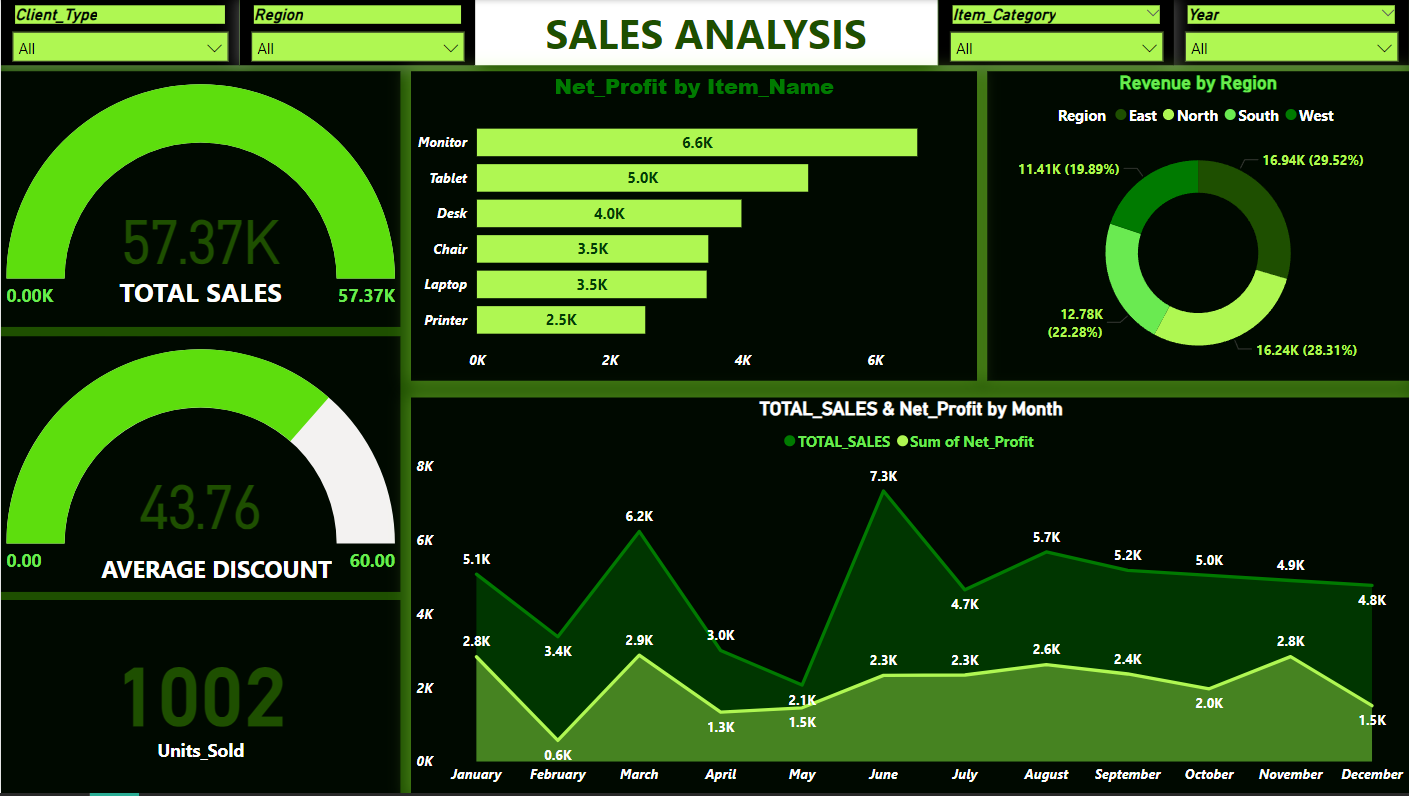

What the dashboard file says about the page in this screenshot:
{"tool":"powerbi","page":{"name":"Page 1","canvas":[1280,720],"ordinal":0},"visuals":[{"type":"textbox","box":[430.1,0,419.8,59.3],"z":0},{"type":"gauge","fields":{"Y":["transactions.TOTAL_SALES"]},"box":[0,65,362.6,231.7],"z":0,"group":"g1"},{"type":"gauge","fields":{"Y":["clients.PROFIT_MARGIN"]},"box":[0,305,362.6,231.7],"z":0,"group":"g2"},{"type":"slicer","fields":{"Values":["clients.Client_Type"]},"box":[0,0,216.1,58.8],"z":1000},{"type":"textbox","box":[0,244.7,362.6,43.2],"z":1000,"group":"g1"},{"type":"textbox","box":[34.8,496.6,320.6,43.2],"z":1000,"group":"g2"},{"type":"slicer","fields":{"Values":["clients.Region"]},"box":[216.1,0,213.7,58.8],"z":2000},{"type":"slicer","fields":{"Values":["transactions.Transaction_Date.Variation.Date Hierarchy.Year"]},"box":[1063.9,0,213.7,58.8],"z":3000},{"type":"slicer","fields":{"Values":["transactions.Item_Category"]},"box":[850.1,0,213.7,58.8],"z":4000},{"type":"group","id":"g1","title":"Group 1","box":[0,65,362.6,231.7],"z":5000},{"type":"group","id":"g2","title":"Group 2","box":[0,305,362.6,235.3],"z":6000},{"type":"card","fields":{"Values":["Sum(transactions.Units_Sold)"]},"box":[0,543.9,362.6,176.5],"z":7000},{"type":"donutChart","fields":{"Category":["clients.Region"],"Y":["Sum(transactions.Revenue)"]},"box":[894.6,64.8,383,281],"z":8000},{"type":"clusteredBarChart","title":"Net_Profit by Item_Name","fields":{"Category":["transactions.Item_Name"],"Y":["Sum(transactions.Net_Profit)"]},"box":[372.2,64.8,513.9,281],"z":9000},{"type":"lineChart","title":"TOTAL_SALES & Net_Profit by Month","fields":{"Y":["transactions.TOTAL_SALES","Sum(transactions.Net_Profit)"],"Category":["transactions.Transaction_Date.Variation.Date Hierarchy.Month"]},"box":[372.2,360.2,907.8,360.2],"z":9001}]}

Visuals, with their boxes in screenshot pixels (x1, y1, x2, y2), scaled from the page's 1280x720 canvas onto the 1409x796 screenshot:
textbox: x1=473 y1=0 x2=936 y2=66
gauge - transactions.TOTAL_SALES: x1=0 y1=72 x2=399 y2=328
gauge - clients.PROFIT_MARGIN: x1=0 y1=337 x2=399 y2=593
slicer - clients.Client_Type: x1=0 y1=0 x2=238 y2=65
textbox: x1=0 y1=271 x2=399 y2=318
textbox: x1=38 y1=549 x2=391 y2=597
slicer - clients.Region: x1=238 y1=0 x2=473 y2=65
slicer - transactions.Transaction_Date.Variation.Date Hierarchy.Year: x1=1171 y1=0 x2=1406 y2=65
slicer - transactions.Item_Category: x1=936 y1=0 x2=1171 y2=65
"Group 1" group: x1=0 y1=72 x2=399 y2=328
"Group 2" group: x1=0 y1=337 x2=399 y2=597
card - Sum(transactions.Units_Sold): x1=0 y1=601 x2=399 y2=795
donutChart - clients.Region x Sum(transactions.Revenue): x1=985 y1=72 x2=1406 y2=382
"Net_Profit by Item_Name" clusteredBarChart: x1=410 y1=72 x2=975 y2=382
"TOTAL_SALES & Net_Profit by Month" lineChart: x1=410 y1=398 x2=1408 y2=795
